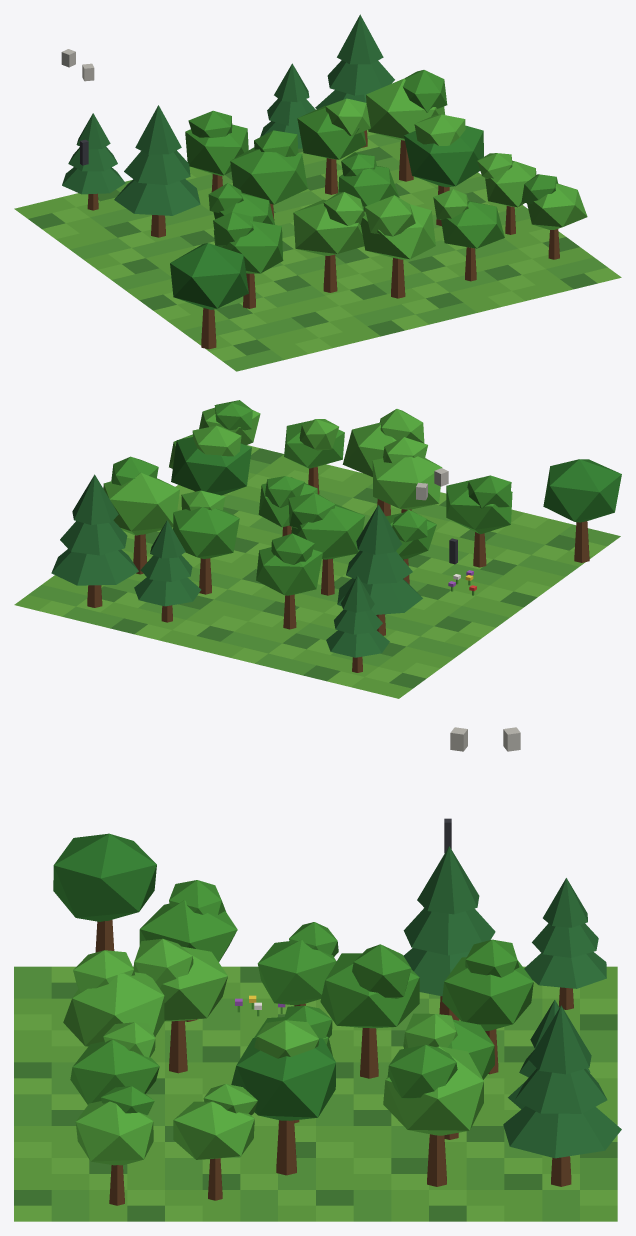
The model's file is chunk_3_0.glb.
3 views of the same model, one above another, from view 1: azimuth 30°, elevation 25°; view 2: azimuth 150°, elevation 25°; view 3: azimuth 270°, elevation 25° (orthographic). The views are drawn at different scales.
Parts seen in each view (by area): view 1: chunk_3_0; view 2: chunk_3_0; view 3: chunk_3_0.
Part boxes in pixels (x1,y1,x2,y2): chunk_3_0: (14,14,621,371); chunk_3_0: (14,400,621,698); chunk_3_0: (14,727,621,1221).
Bounding box in the file's own units: 17.18 × 7.2 × 16.11.
